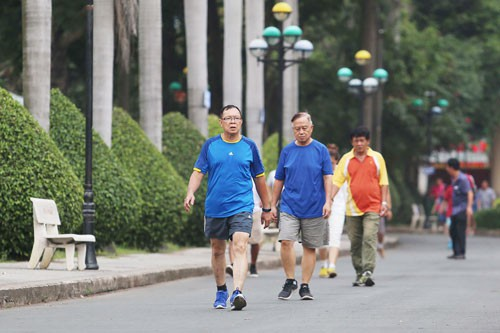person: (185, 106, 272, 309), (270, 113, 332, 300), (333, 130, 389, 287), (445, 158, 473, 260)
